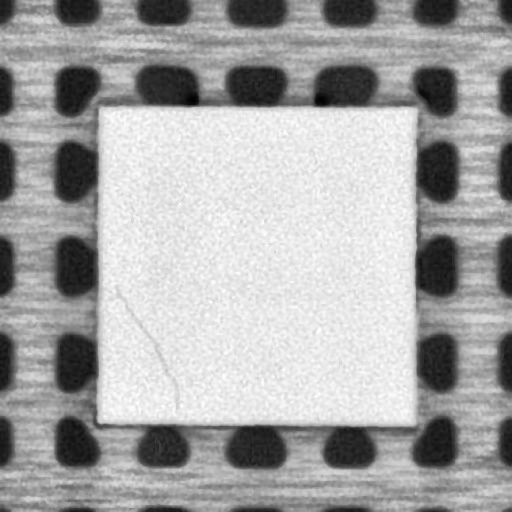DIE_CRACK: (112, 286, 179, 411)
